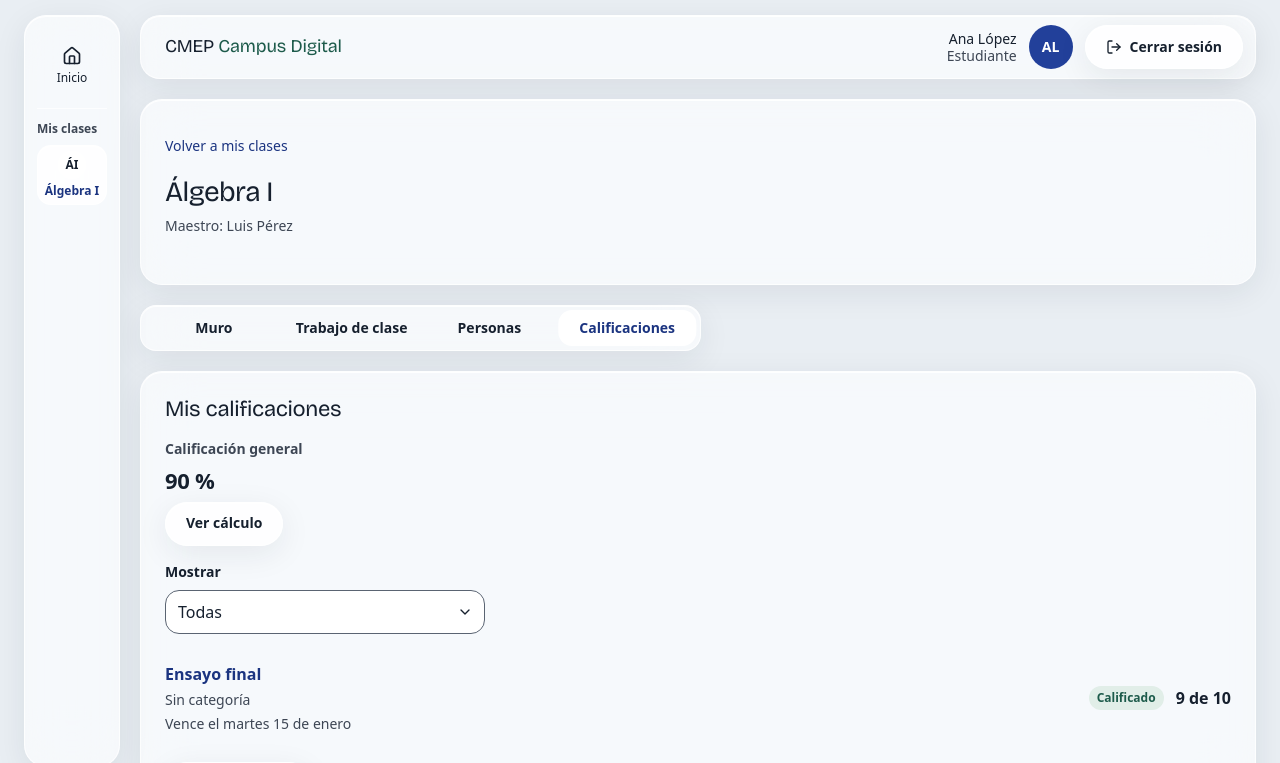
Test case: Vecinos del mecanismo › CAL-T-259: con el filtro «Calificadas» y el 400 de «Ver más tareas», dos pulsaciones con la primera página retenida piden una sola, con el mismo filtro; el sele
The image size is (1280, 763).
Select "Calificadas" in the dropdown labelled "Mostrar" at (325, 612), box [165,590,485,634]
(page scrolled)
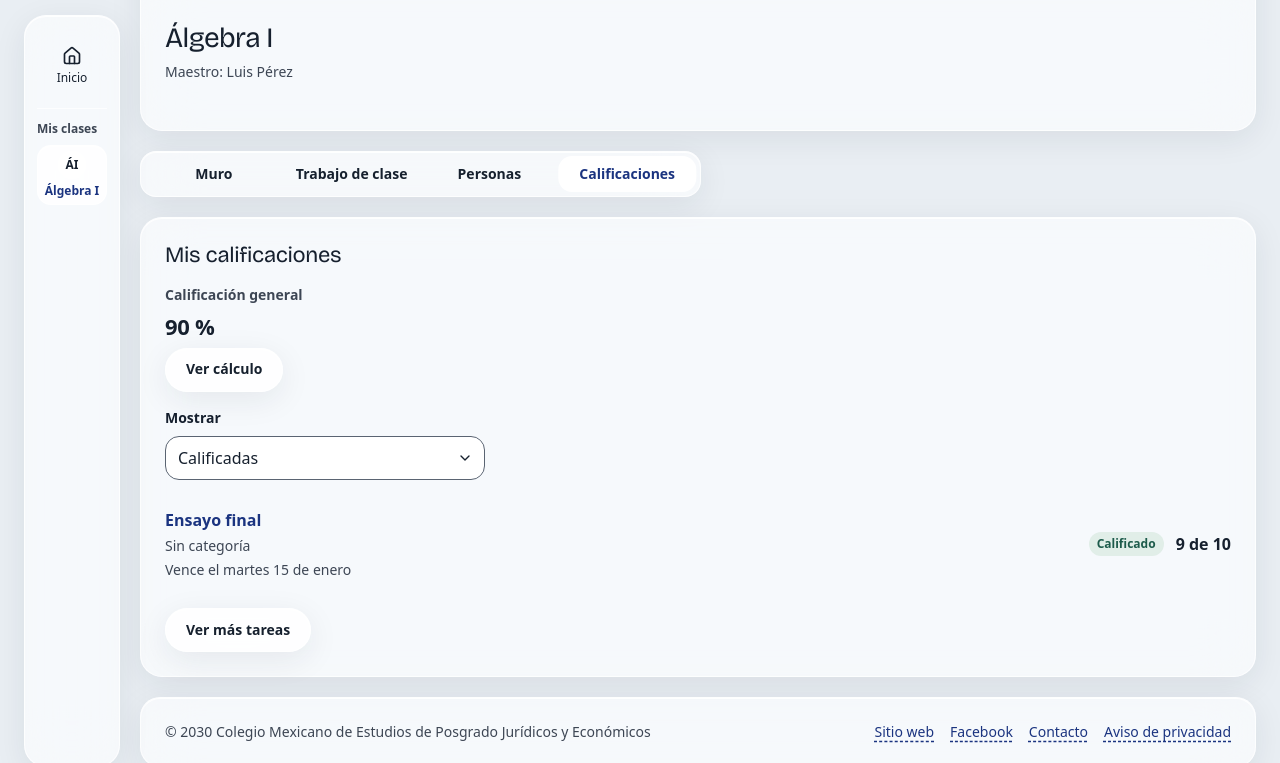
Click the button "Ver más tareas" at (238, 630), box [165,608,311,652]
(page scrolled)
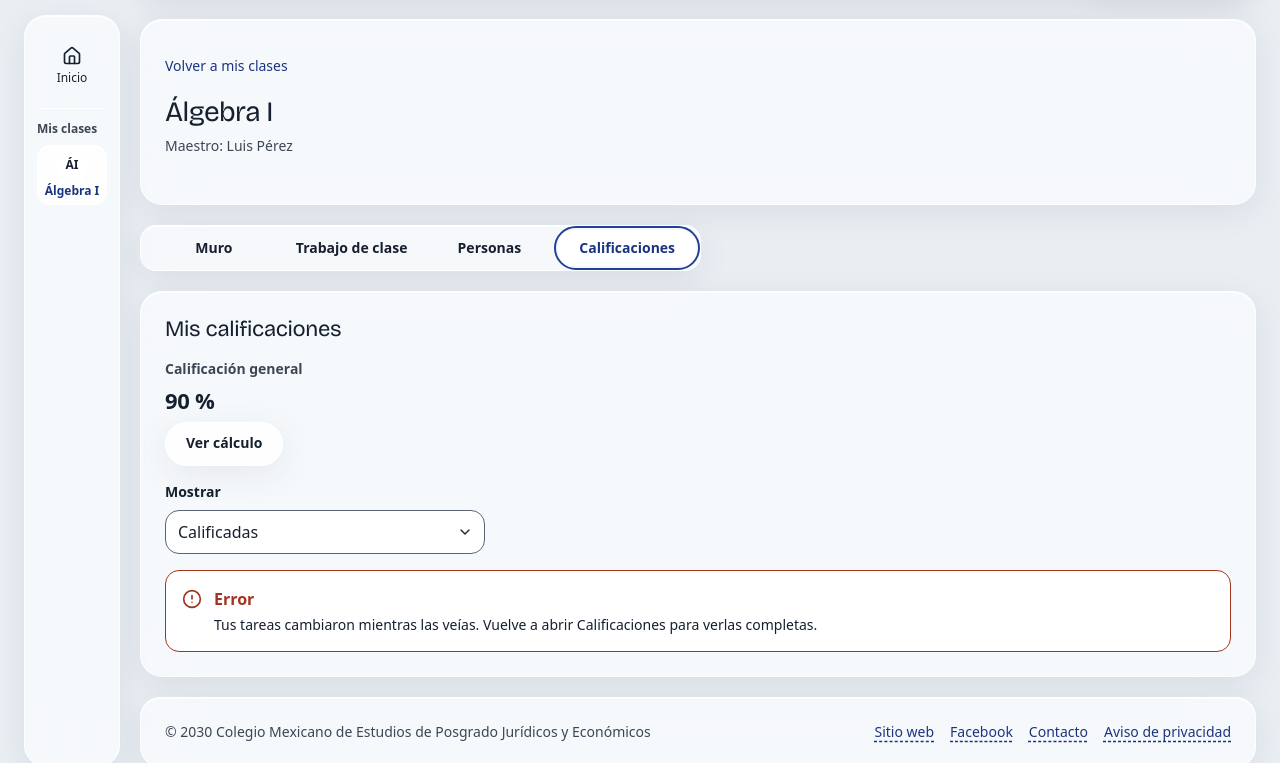
Expected: the text "Tus tareas cambiaron mientras las veías. Vuelve a abrir Calificaciones para verlas completas." is shown, [214,615,817,634]
Click the link "Calificaciones" at (627, 248), box [579,238,675,257]
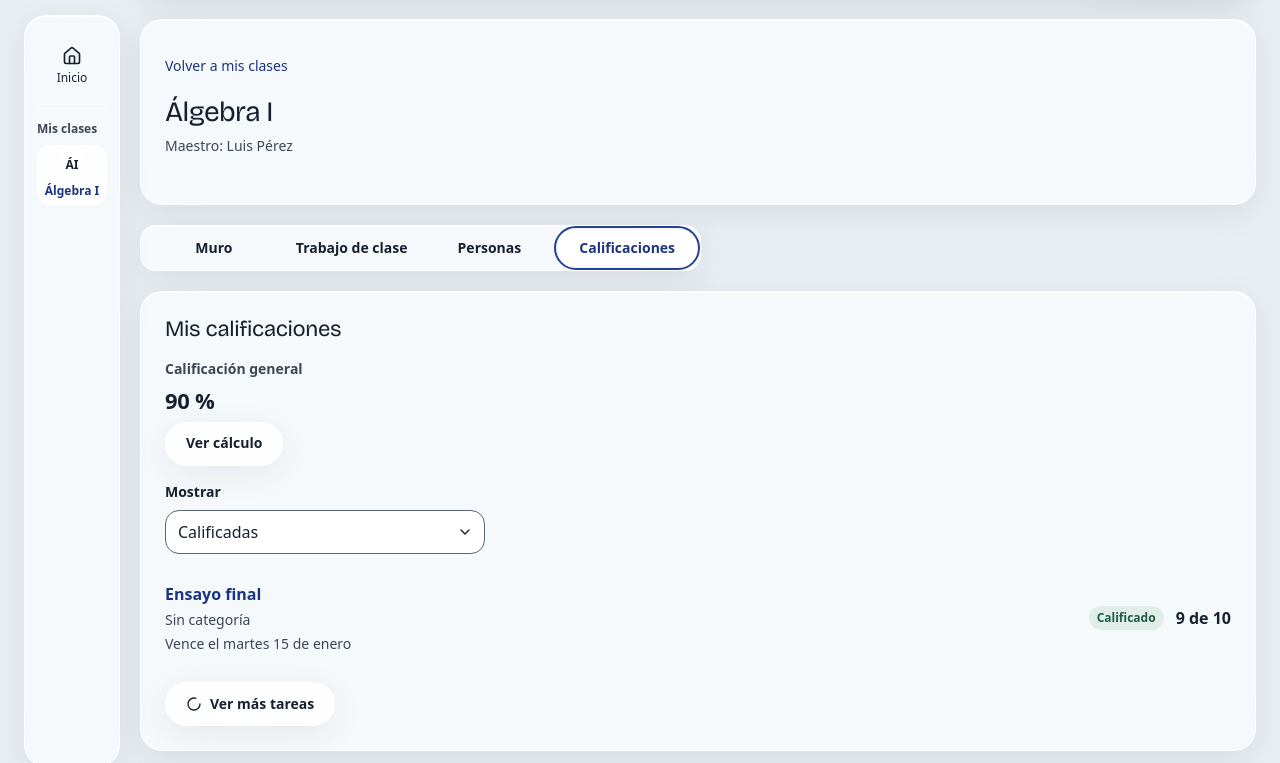
Click the link "Calificaciones" at (627, 248), box [579,238,675,257]
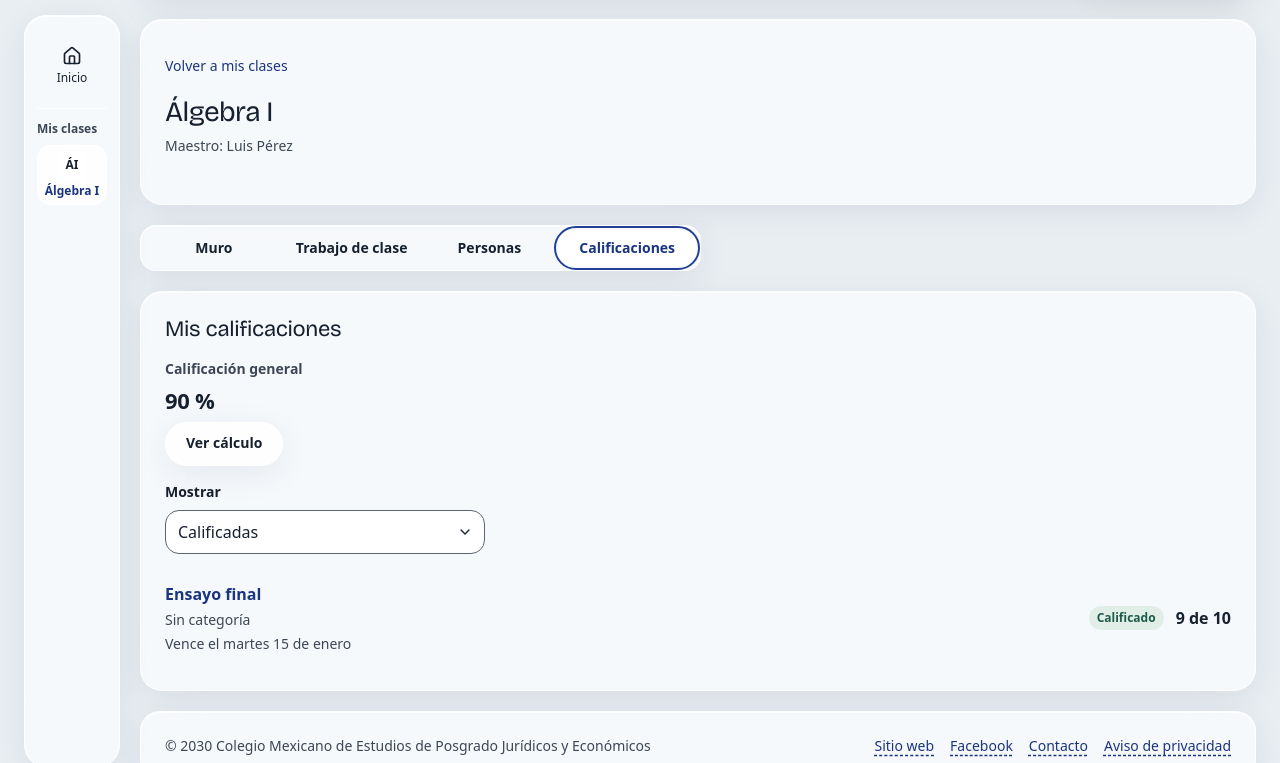
Expected: the button "Ver más tareas" is gone
